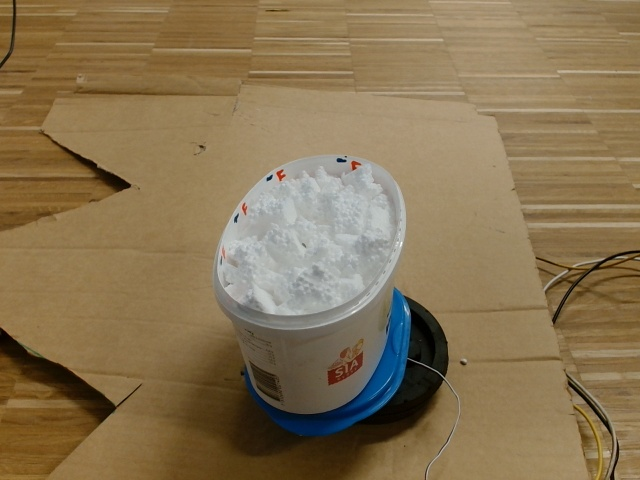Big_full: (212, 151, 408, 330)
